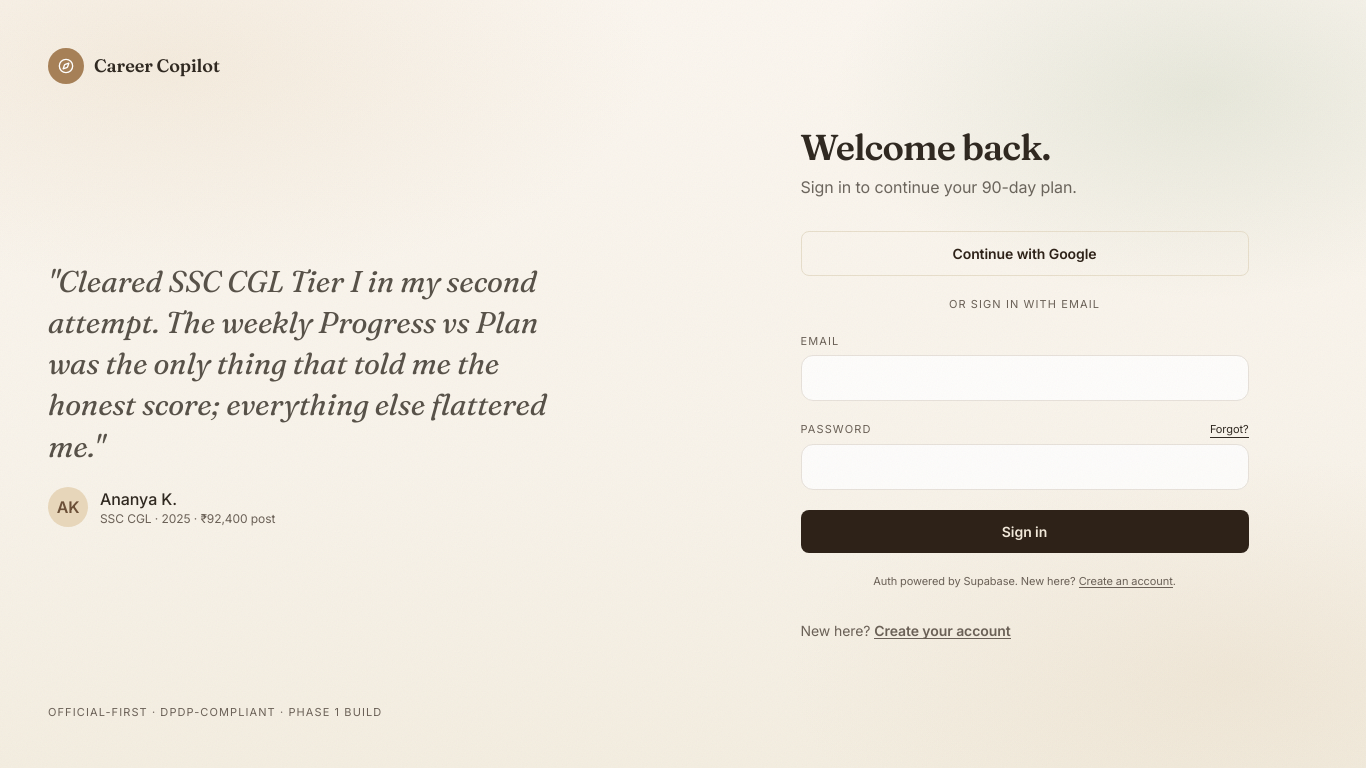
Test: widget load failure shows a user-facing message and does not hang
Type "u@x.com" into the field with test id "login-email" at (1024, 378), box [800,355,1248,401]
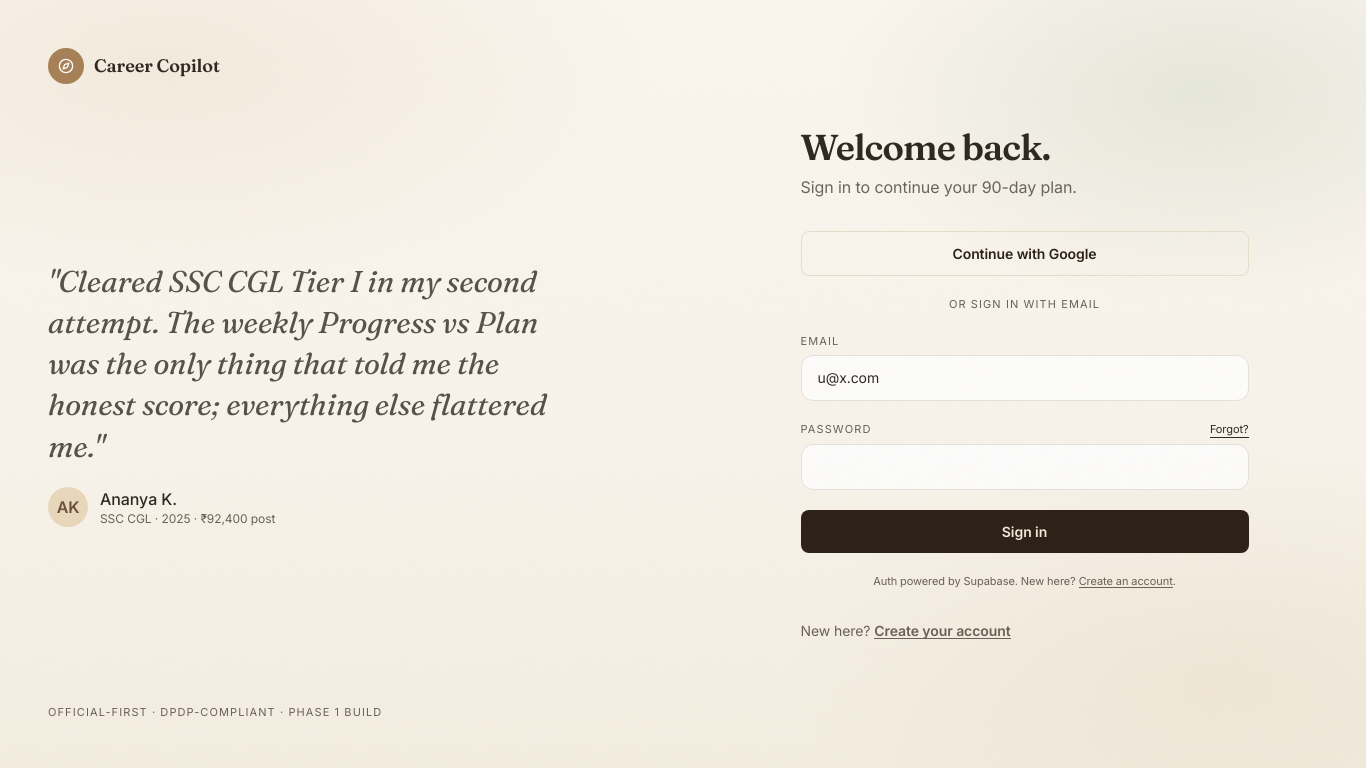
Type "pw12345" into the password field with test id "login-password" at (1024, 466), box [800,444,1248,490]
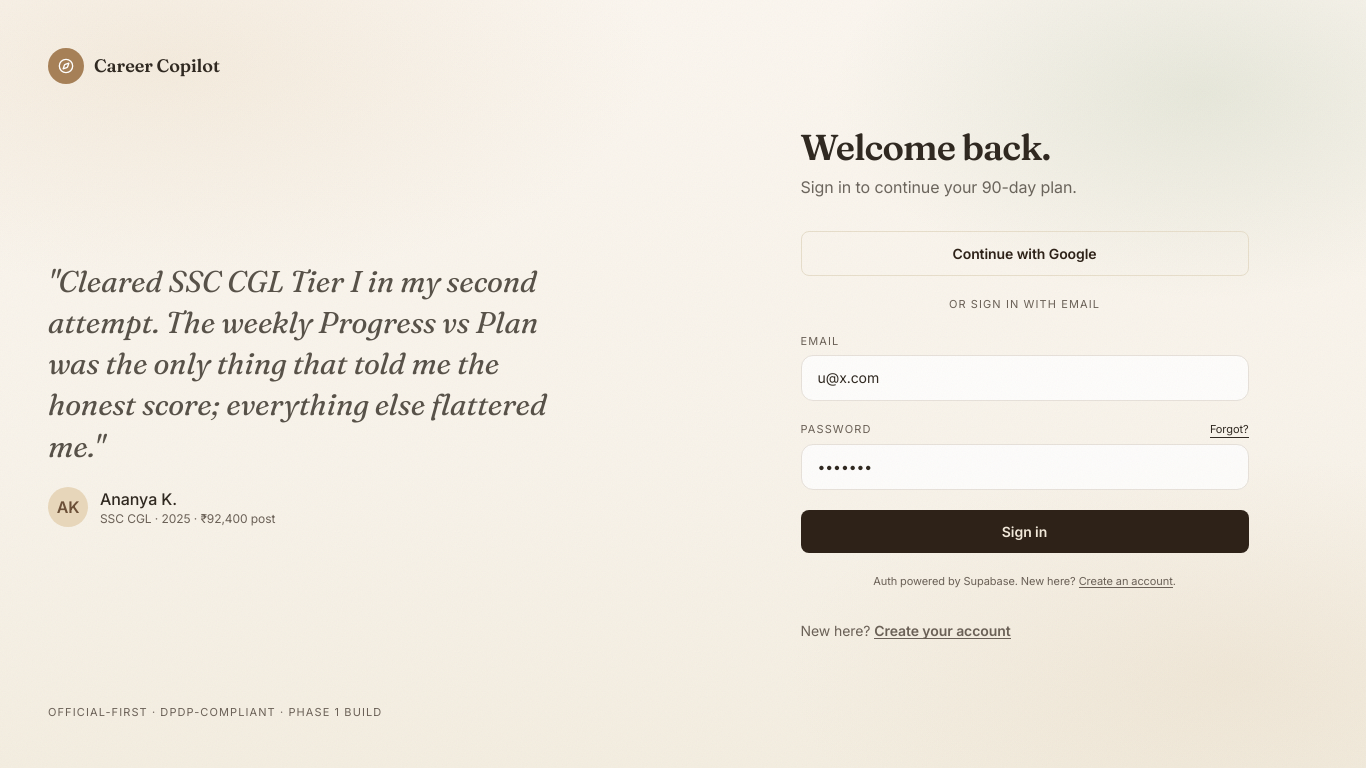
Click the button with test id "login-submit" at (1024, 531), box [800,510,1248,553]
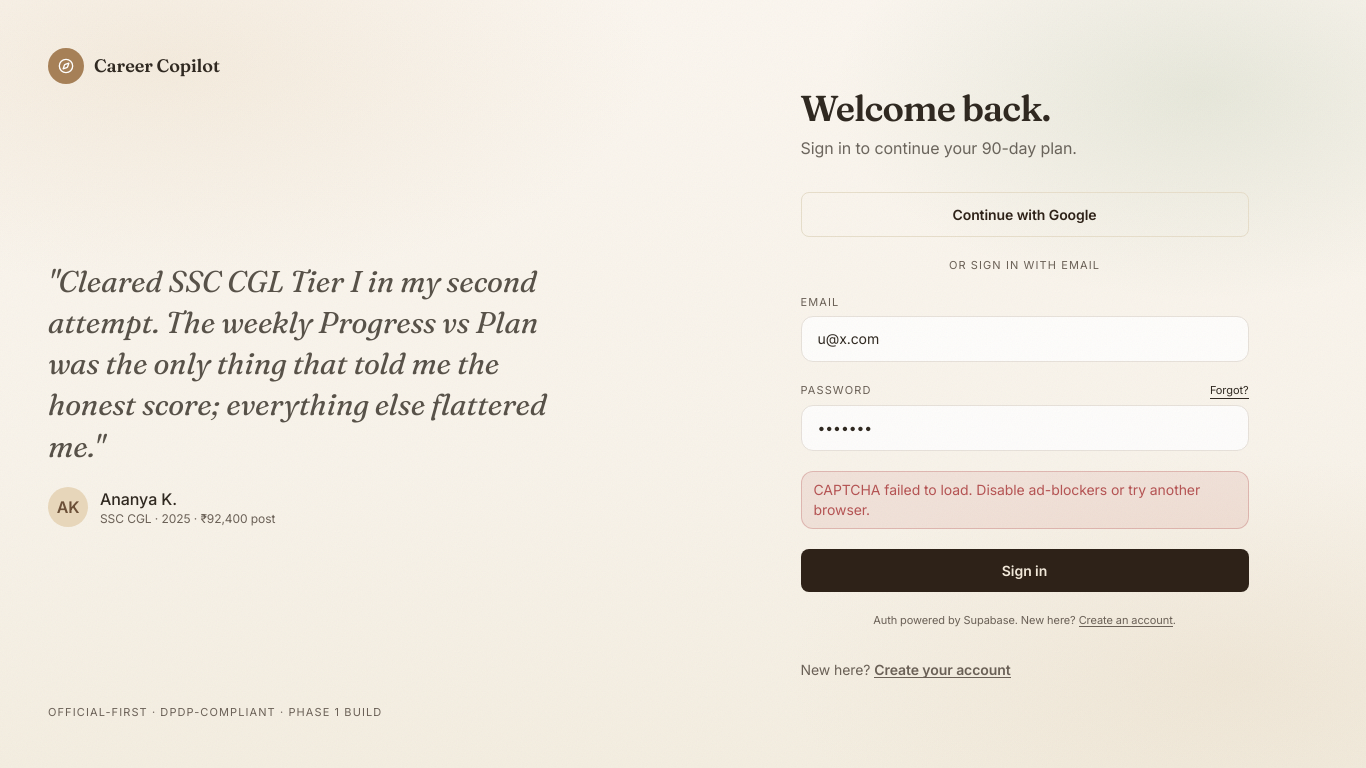
Check: the text with test id "login-error" is shown, box [800,470,1248,528]
